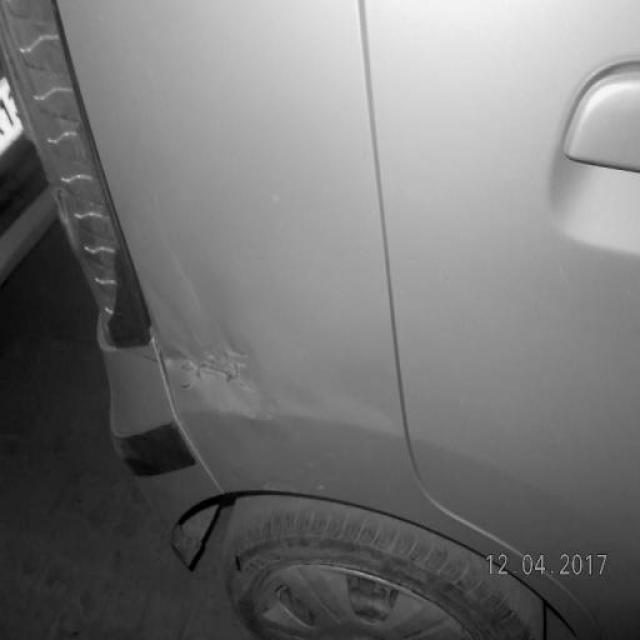car damage: (149, 325, 252, 403)
